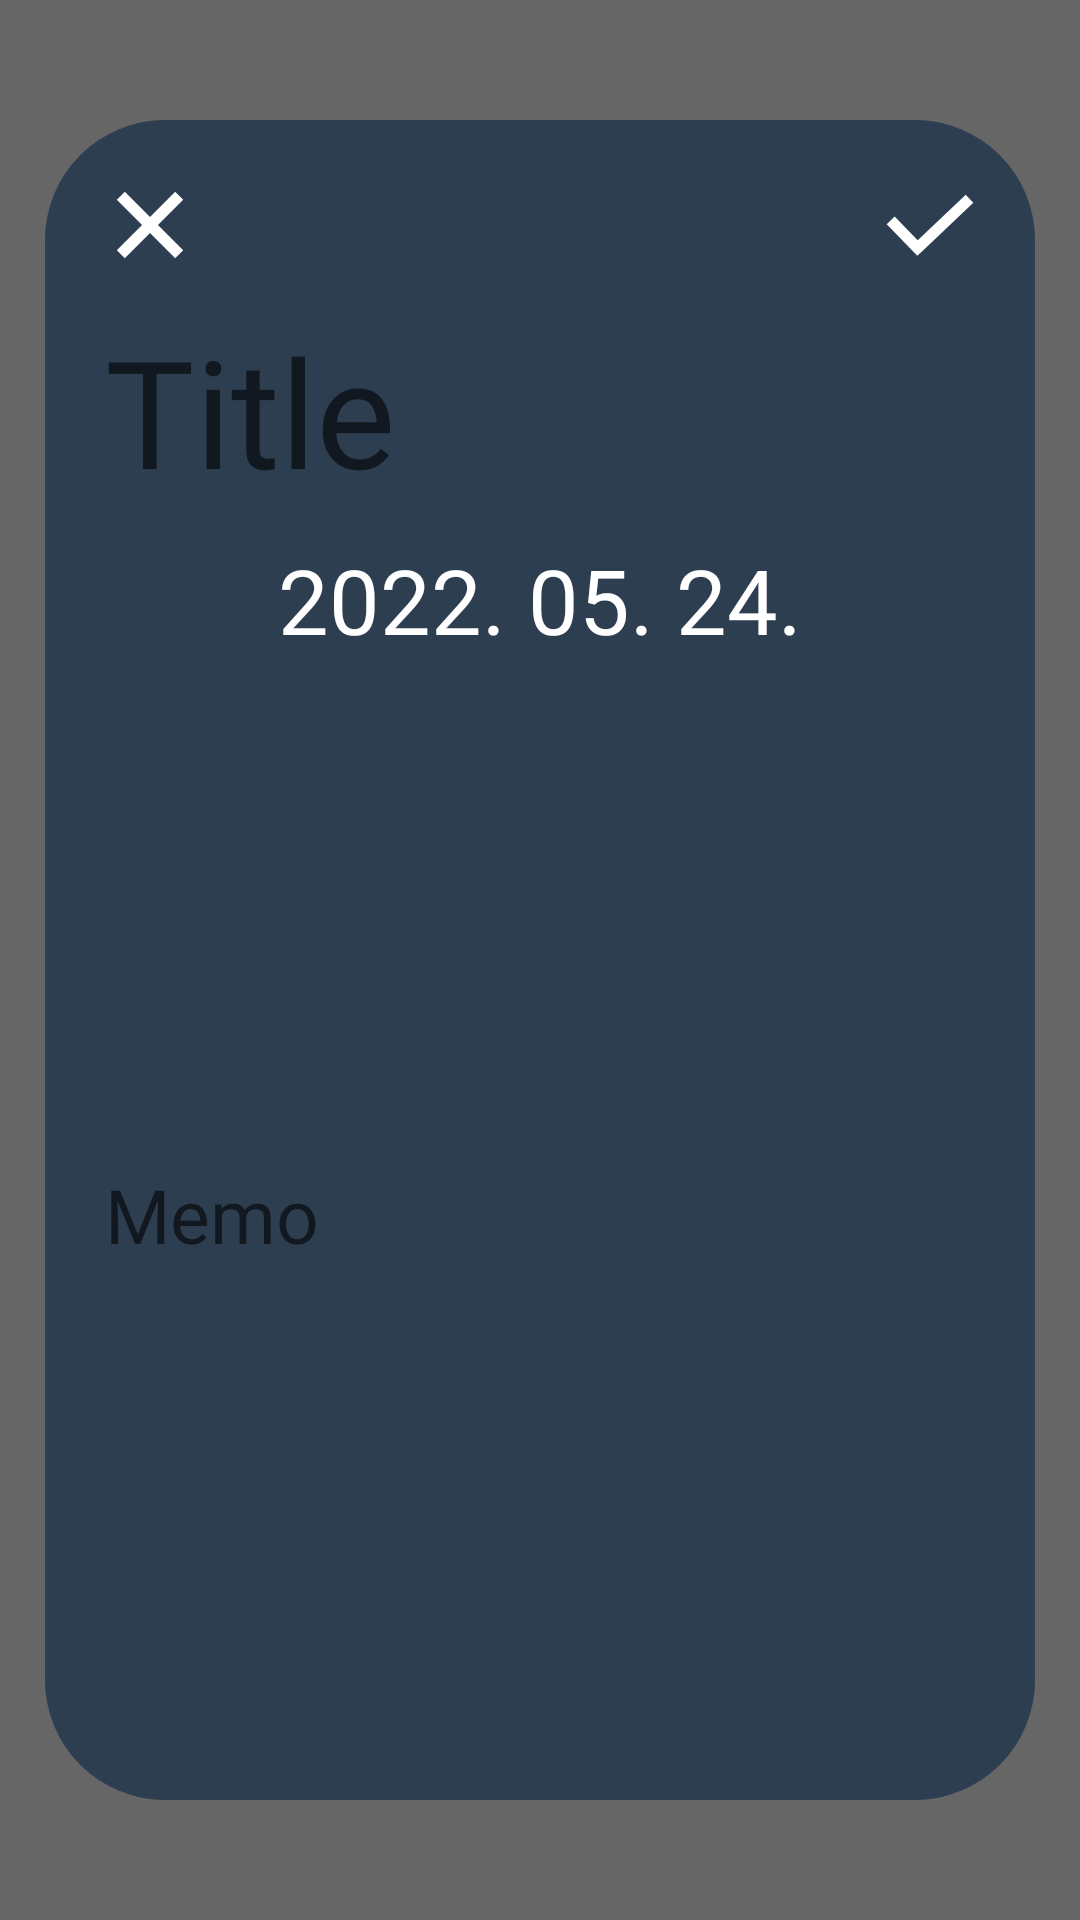

Where to tap for icons on this 1080*1920 app screen, as [x,y]:
cancel: [150,225]
check: [930,225]
